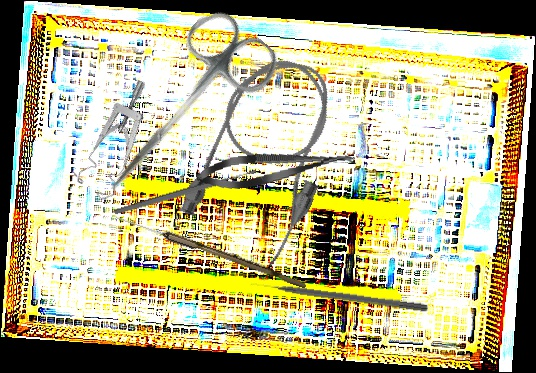Cannula: (173, 41, 361, 271)
Iris Scissors: (79, 0, 287, 223)
Micro Scissor: (194, 142, 358, 194)
Pusher: (249, 277, 429, 313)
Speculum: (54, 77, 187, 208)
Surgical Spoon: (113, 213, 309, 289), (113, 167, 258, 217)
